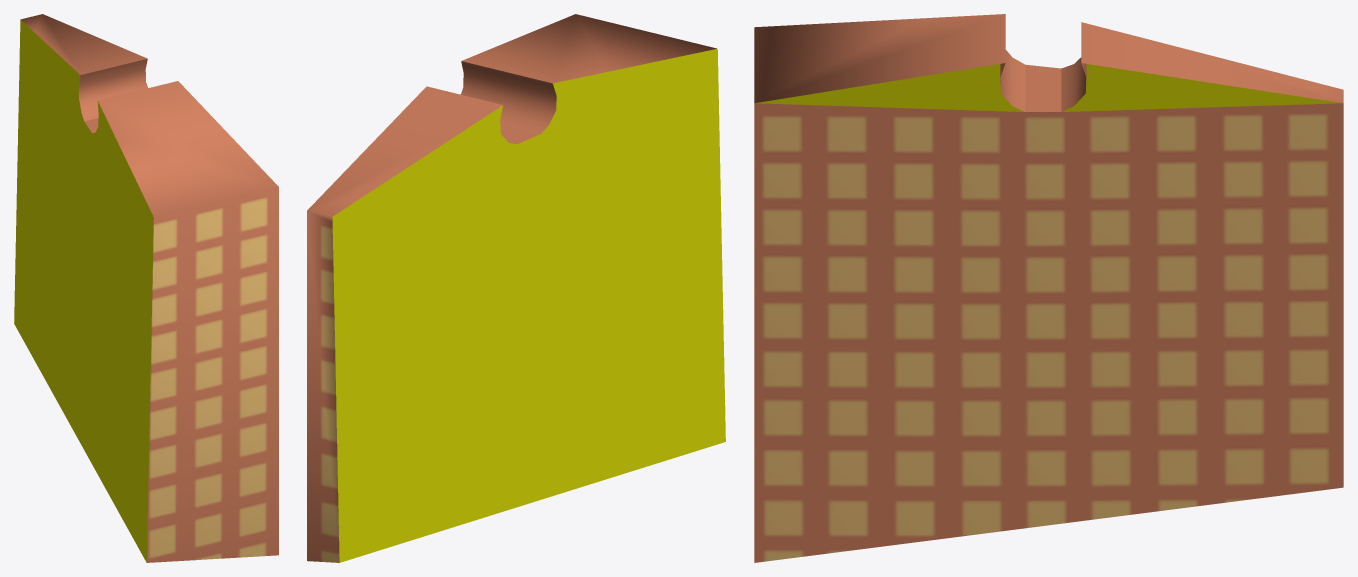
File: stShard4.fbx
3 views of the same model, side by side, from view 1: azimuth 30°, elevation 25°; view 2: azimuth 150°, elevation 25°; view 3: azimuth 270°, elevation 25° (orthographic). The views are drawn at different scales.
Visible parts, largest first — view 1: shard29; view 2: shard29; view 3: shard29.
Part boxes in pixels (<box>): shard29: <box>14,14,278,562</box>; shard29: <box>307,14,725,562</box>; shard29: <box>754,14,1343,562</box>.
Bounding box in the file's own units: 0.0572 × 0.1659 × 0.1771.
Materials: 2 (1 with a texture image).
